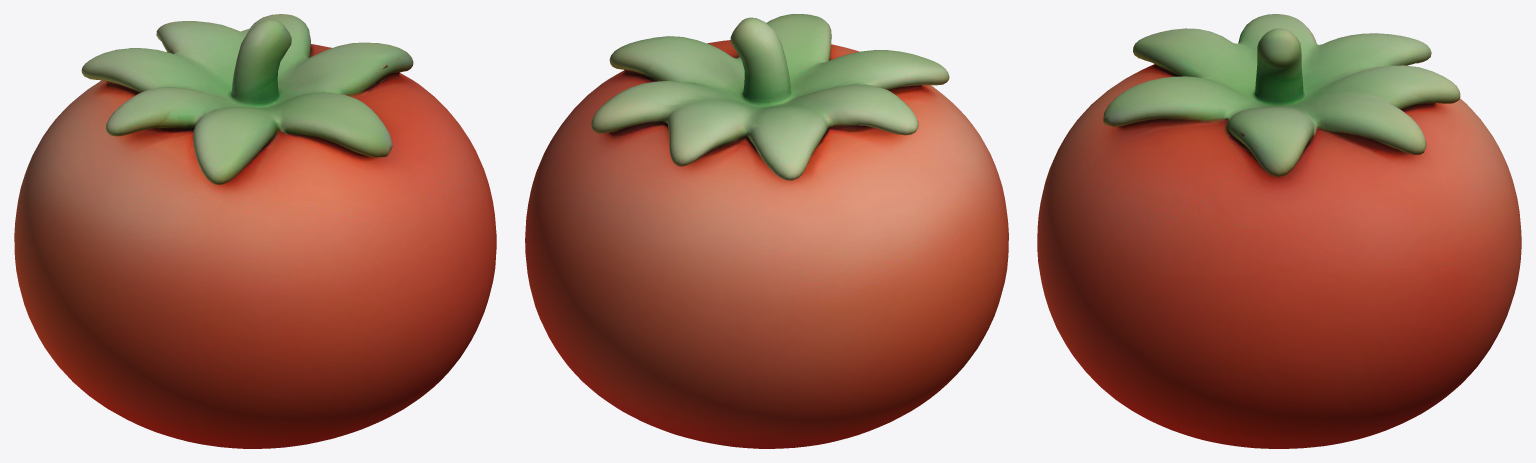
File: tomato.glb
The picture shows the model from 3 angles, left to right: view 1: azimuth 30°, elevation 25°; view 2: azimuth 150°, elevation 25°; view 3: azimuth 270°, elevation 25°; orthographic projection.
Visible parts, largest first — view 1: tripo_node_de3a5dde; view 2: tripo_node_de3a5dde; view 3: tripo_node_de3a5dde.
Boxes of the visible parts, x1,y1,x2,y2 form: tripo_node_de3a5dde: [14, 14, 496, 448]; tripo_node_de3a5dde: [525, 14, 1008, 448]; tripo_node_de3a5dde: [1037, 14, 1521, 448].
Size of the model in its own units: 99.85 by 90.04 by 99.85.
1 material, 1 textured.
